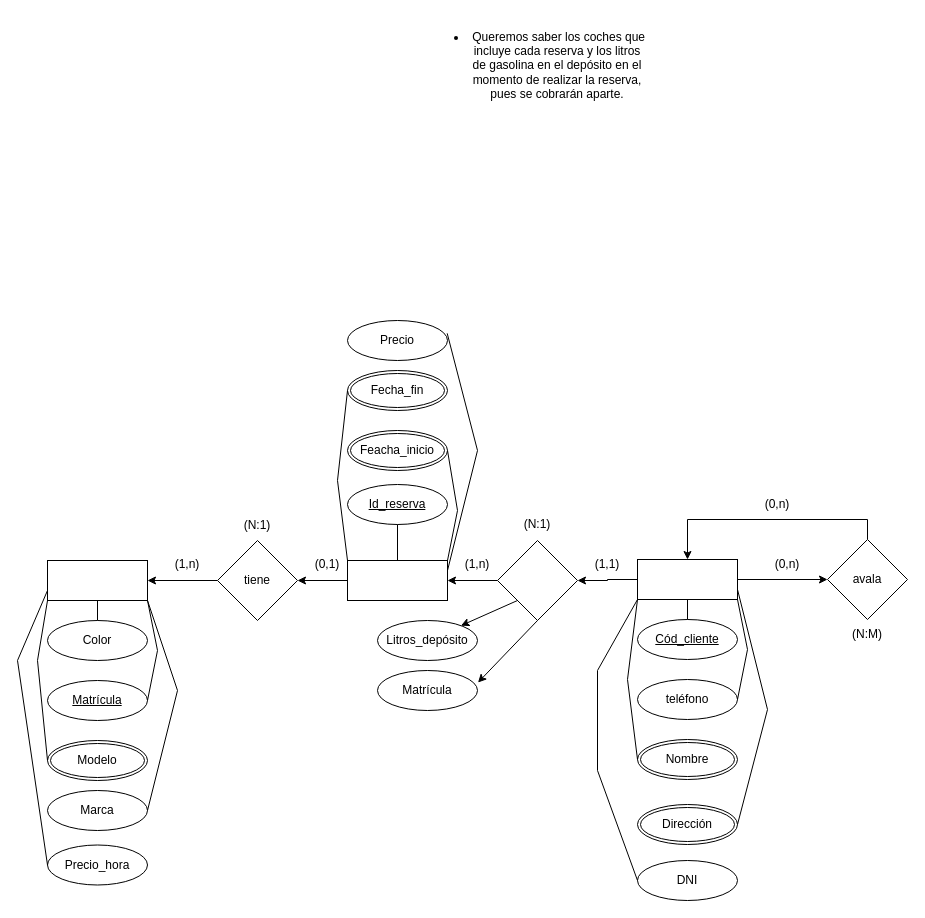
This 925x918 diagram has some shape labels left out. The shapes that lost their labels are listed below. From the top down, each one's centre as x and y in pixels, then its label:
At (97,580): "VEHÍCULOS".
At (397,580): "RESERVA".
At (537,580): "hace".
At (687,579): "CLIENTE".
